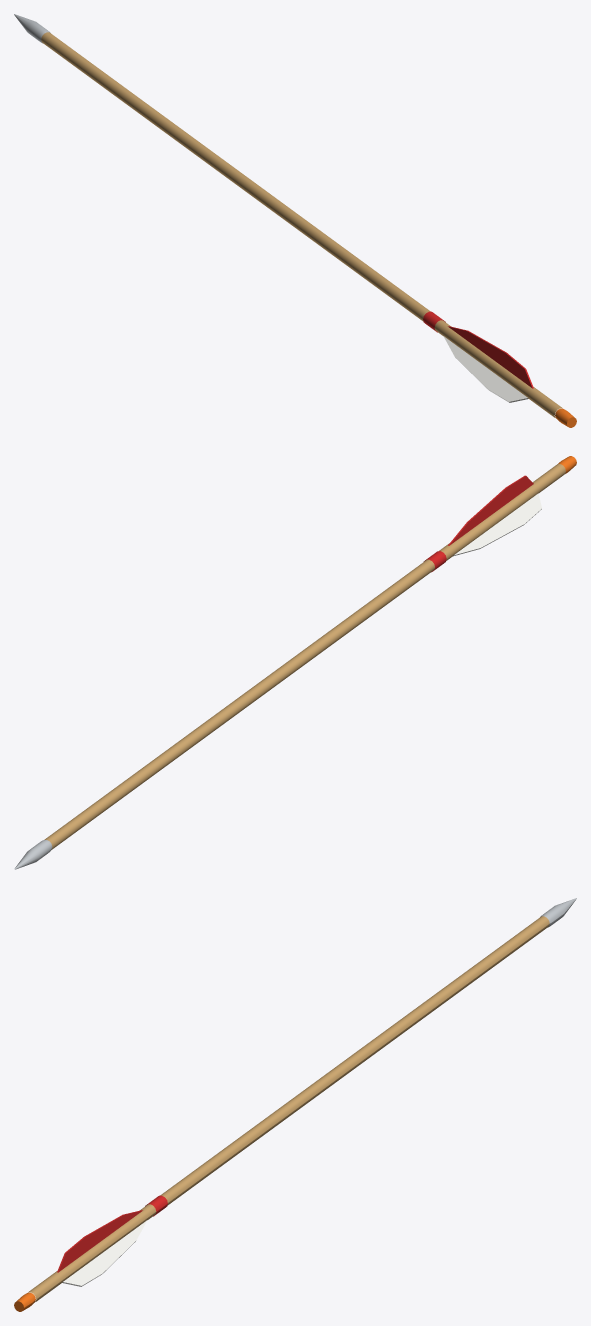
The model's file is arrow.glb.
3 renders of one model, top to bottom at view 1: azimuth 30°, elevation 25°; view 2: azimuth 150°, elevation 25°; view 3: azimuth 330°, elevation 25°, orthographic.
Visible parts, largest first — view 1: Arrow; view 2: Arrow; view 3: Arrow.
Boxes of the visible parts, bbox=[...] form: Arrow: bbox=[14, 14, 576, 427]; Arrow: bbox=[14, 456, 576, 869]; Arrow: bbox=[14, 898, 576, 1311].
Size of the model in its own units: 0.0273 by 0.0237 by 0.722.
